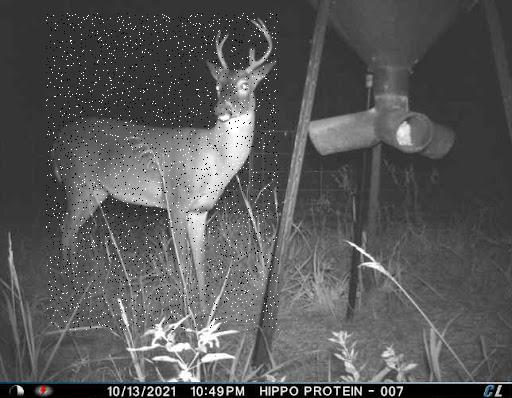Deer: (46, 13, 279, 330)
